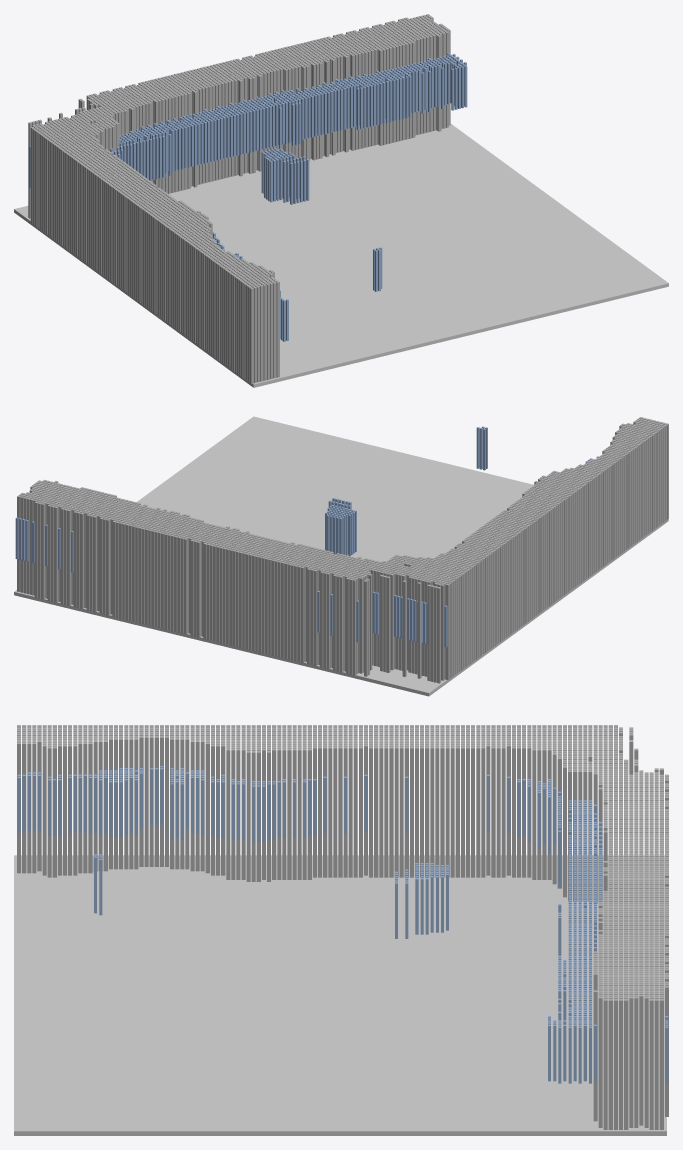
3 views of the same model, one above another, from view 1: azimuth 30°, elevation 25°; view 2: azimuth 150°, elevation 25°; view 3: azimuth 270°, elevation 25° (orthographic). The views are drawn at different scales.
Visible parts, largest first — view 1: world; view 2: world; view 3: world.
Part boxes in pixels (x1,y1,x2,y2): world: [14, 14, 668, 387]; world: [14, 416, 668, 696]; world: [14, 725, 668, 1135].
Size of the model in its own units: 12.84 by 2.9 by 12.84.
